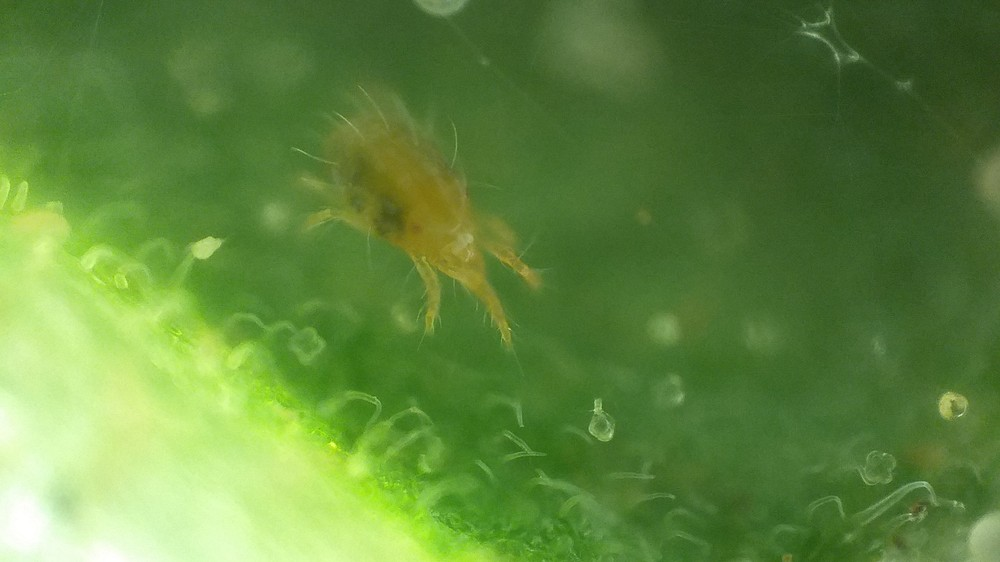Aracnido Rojo: (274, 73, 571, 378)
